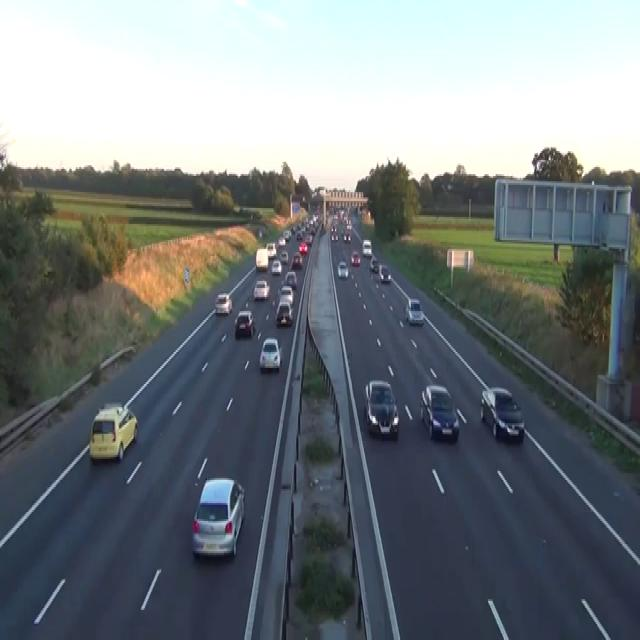Car: (191, 476, 245, 558), (89, 402, 137, 462), (480, 386, 524, 441), (419, 384, 459, 441), (364, 379, 399, 437), (259, 338, 282, 372), (234, 309, 254, 338), (405, 297, 424, 325), (275, 300, 293, 326), (214, 292, 232, 314), (253, 279, 270, 301), (277, 284, 293, 304), (378, 263, 391, 283), (284, 270, 297, 290), (337, 260, 348, 278), (265, 242, 277, 258), (291, 252, 302, 268), (350, 249, 360, 265), (271, 260, 282, 274), (369, 256, 378, 272), (279, 249, 288, 263), (298, 240, 307, 252), (330, 229, 338, 242), (283, 229, 291, 240), (330, 222, 337, 233), (343, 233, 351, 242), (304, 234, 312, 243), (278, 235, 285, 245), (346, 219, 352, 229), (296, 231, 302, 240), (258, 228, 262, 238)
Truck: (255, 247, 268, 272), (362, 238, 371, 256)
